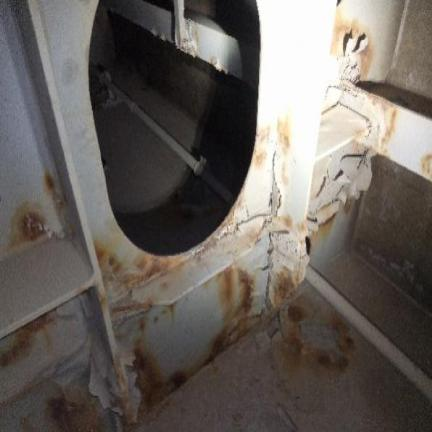karat: (283, 309, 355, 375)
